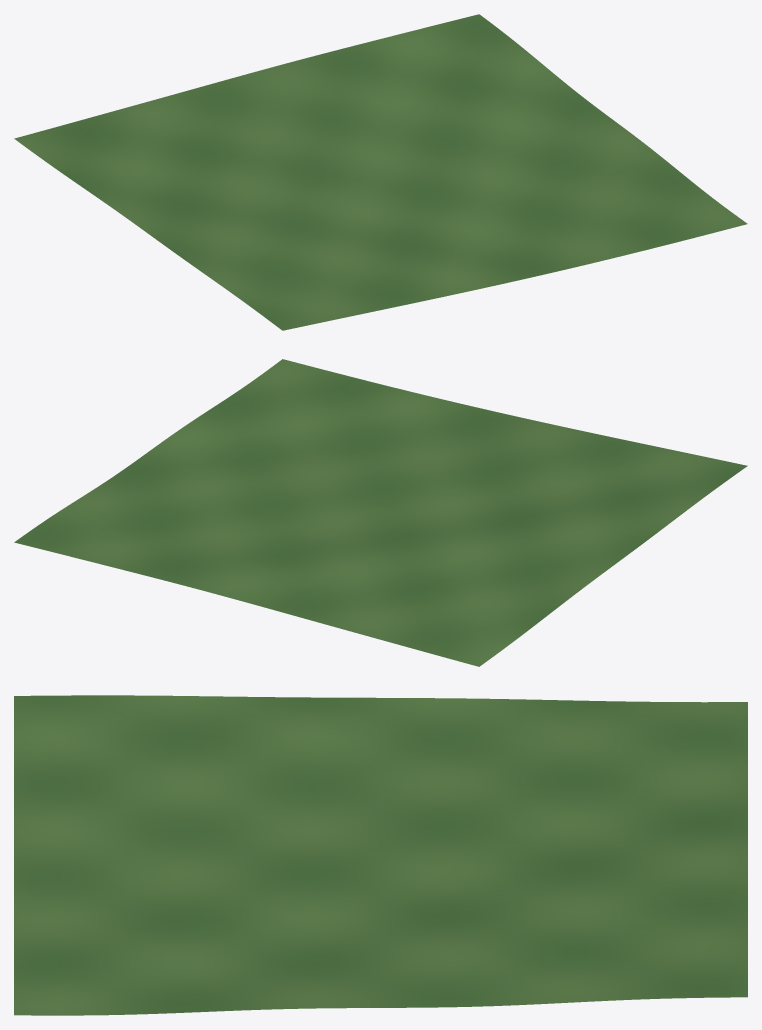
File: chunk_6_9.glb
3 views of the same model, one above another, from view 1: azimuth 30°, elevation 25°; view 2: azimuth 150°, elevation 25°; view 3: azimuth 270°, elevation 25° (orthographic). The views are drawn at different scales.
Size of the model in its own units: 512 by 16.68 by 512.
